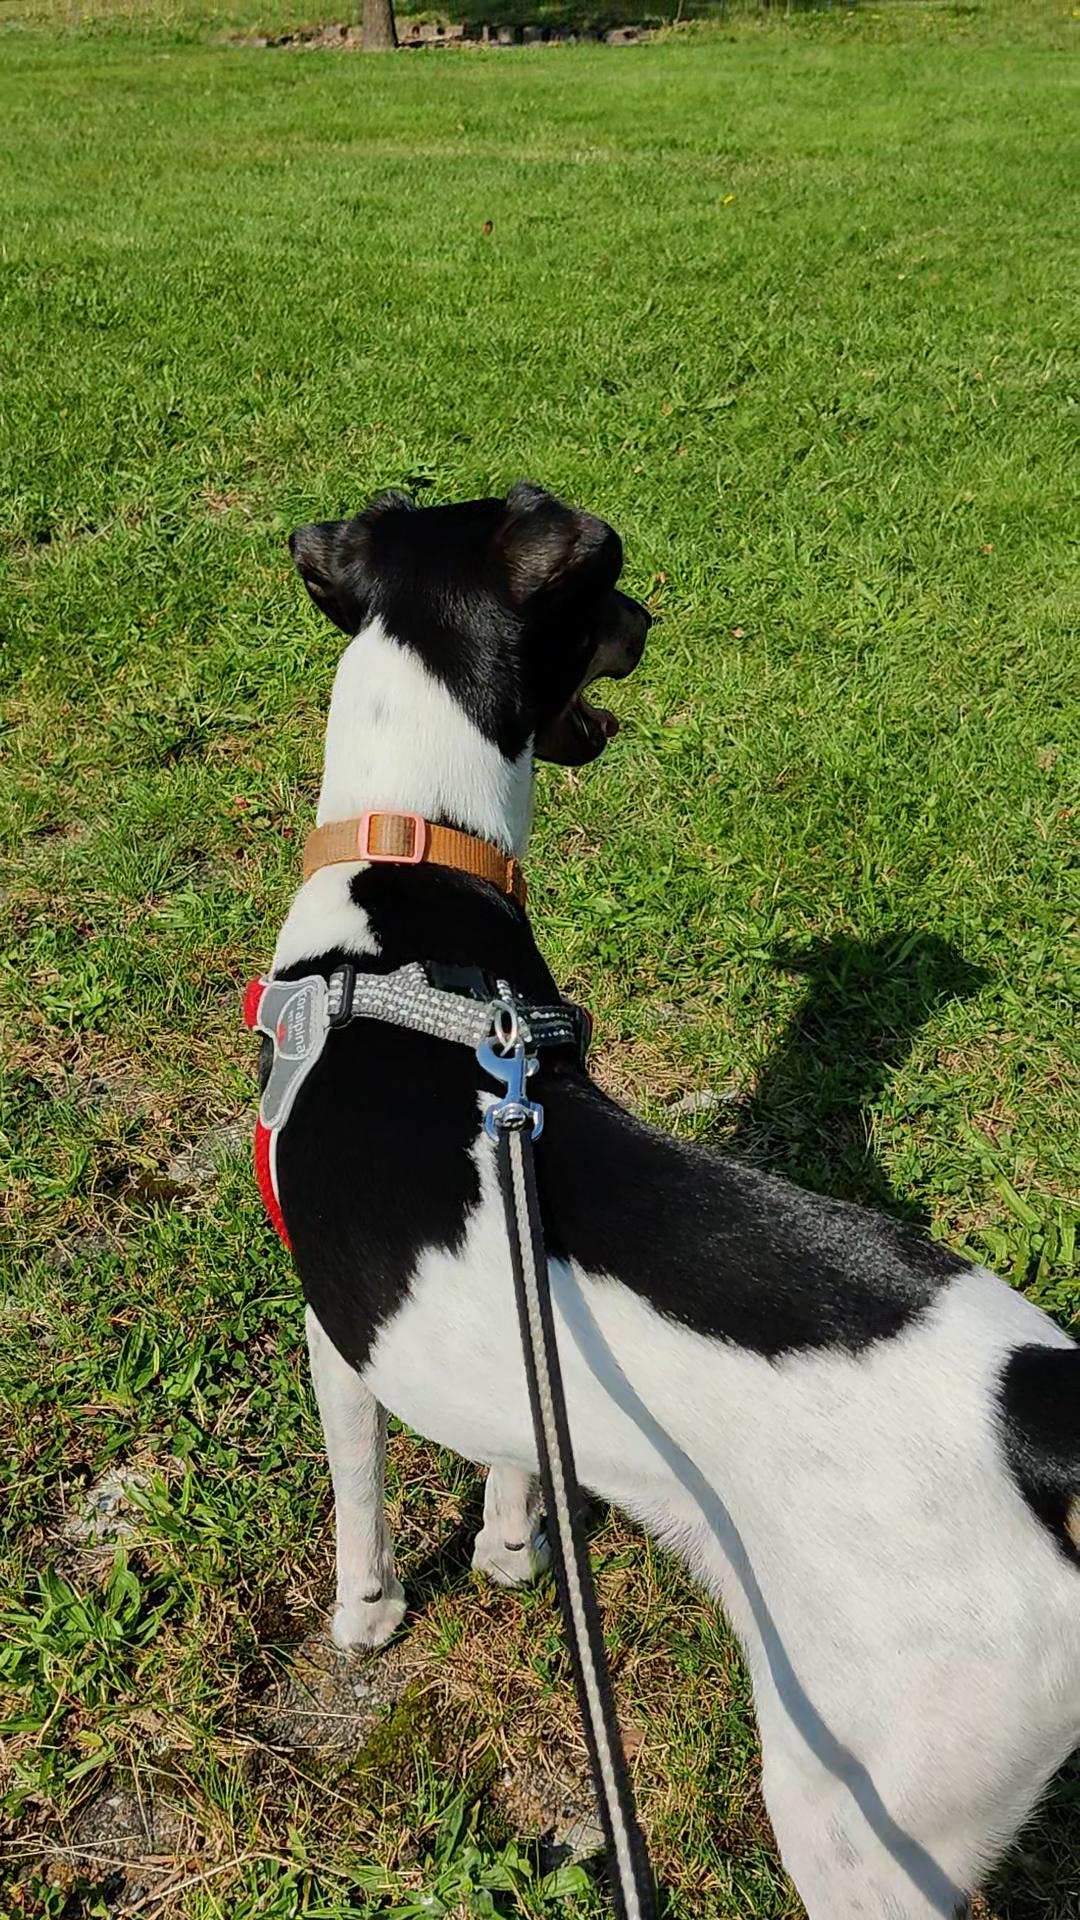Dog: (240, 448, 1079, 1919)
